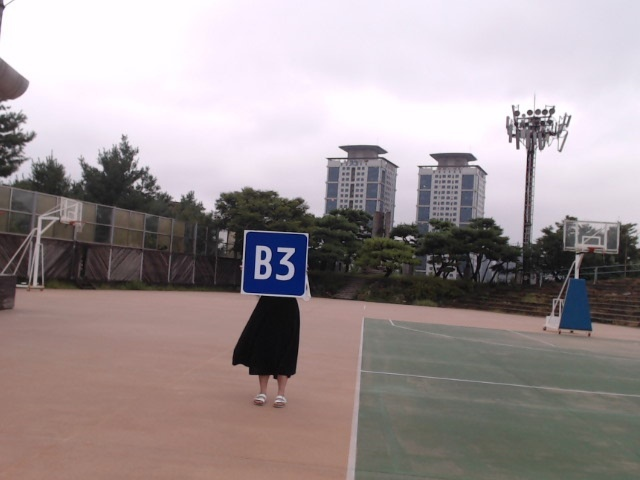delivery_b3: (243, 231, 308, 297)
